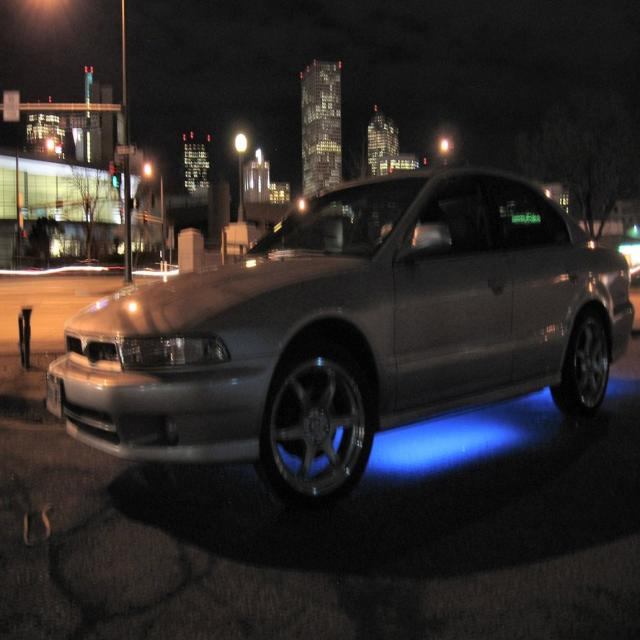Car: (39, 164, 633, 502)
